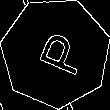P_NW: (25, 26, 86, 80)
